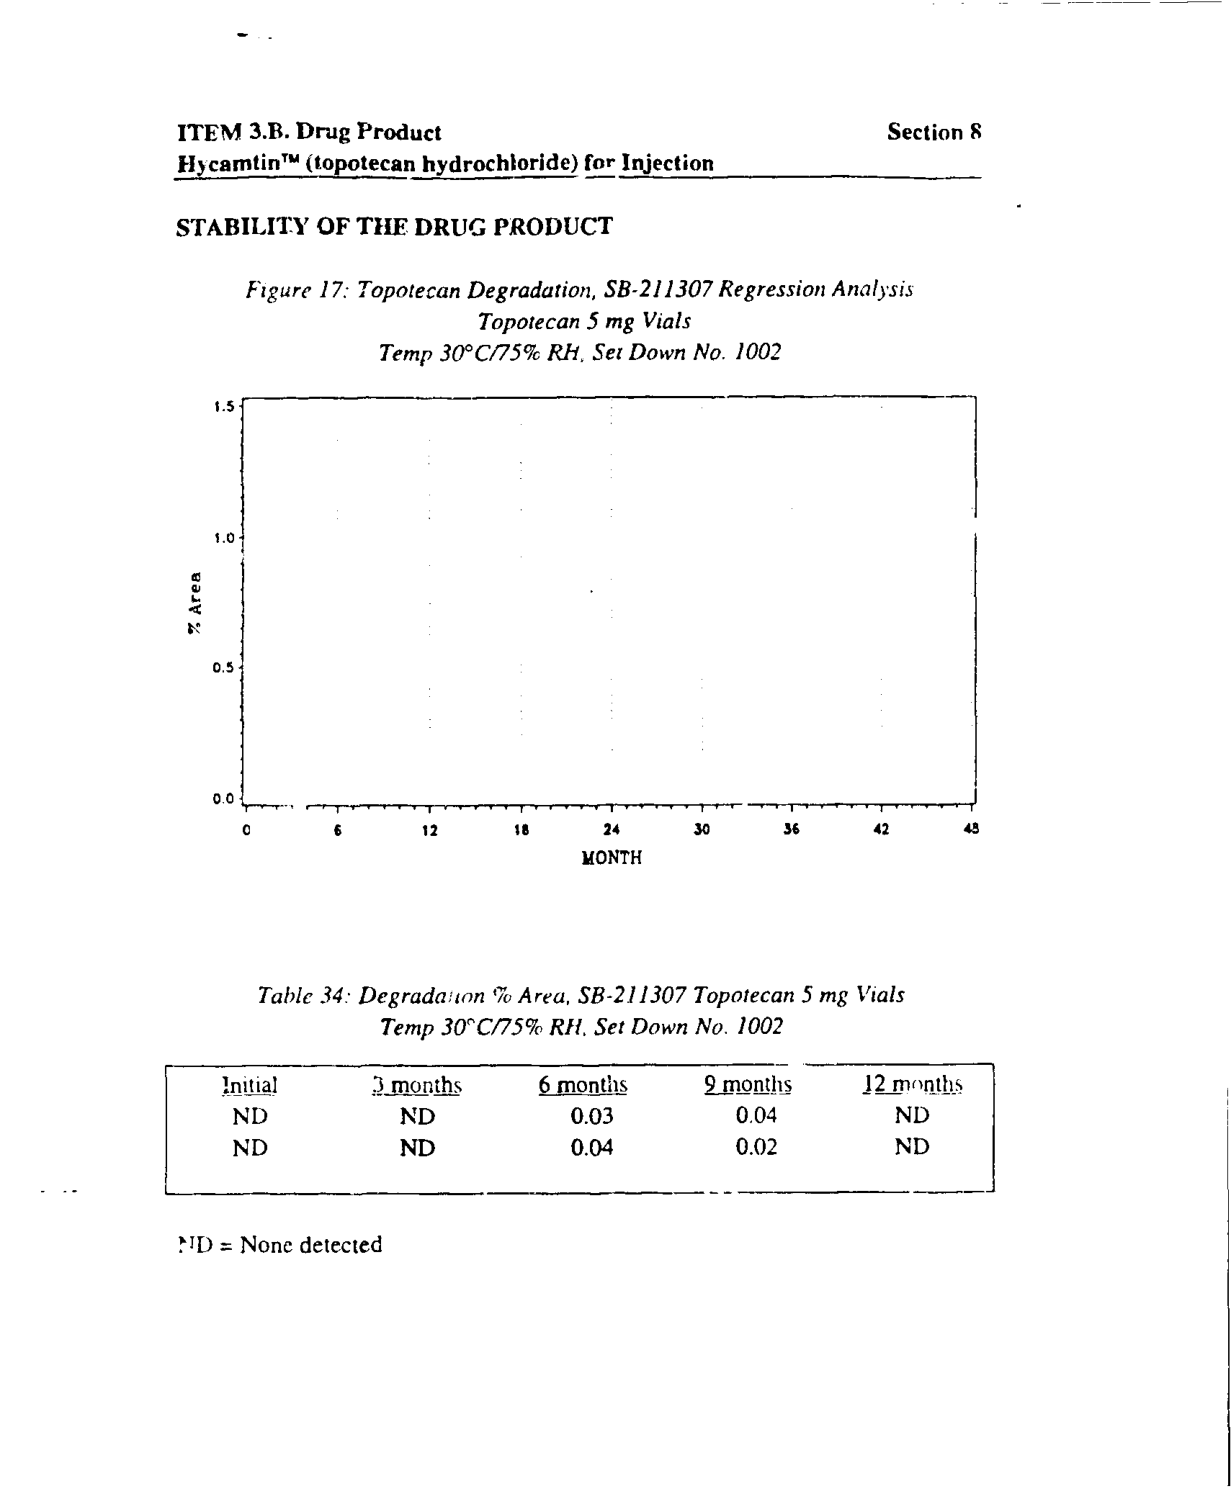partial_lined: (163, 1061, 996, 1195)
